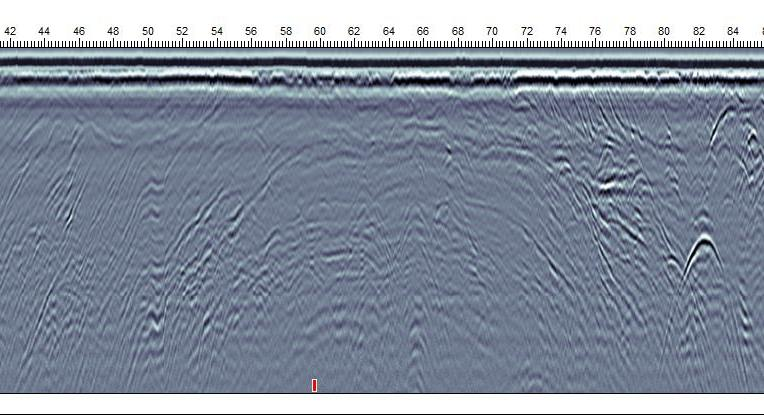Hyperbola: (672, 220, 733, 282), (14, 101, 79, 157), (711, 95, 762, 163), (45, 109, 90, 149)
